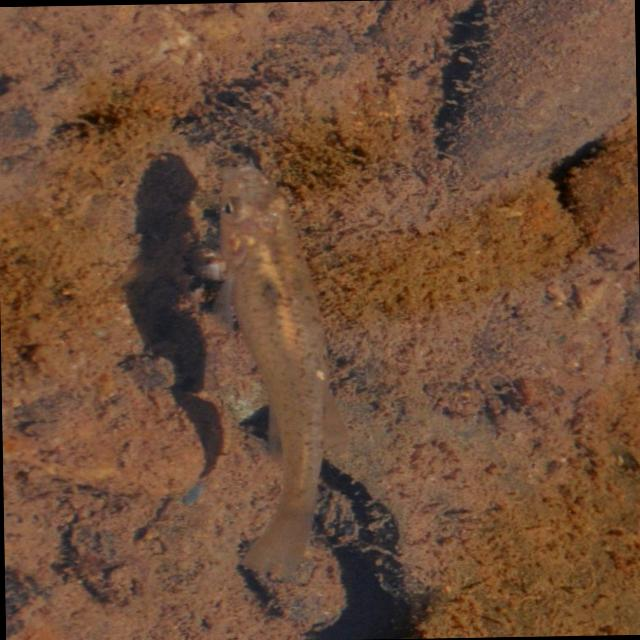Sivrisinek Baligi: (214, 165, 357, 589)
